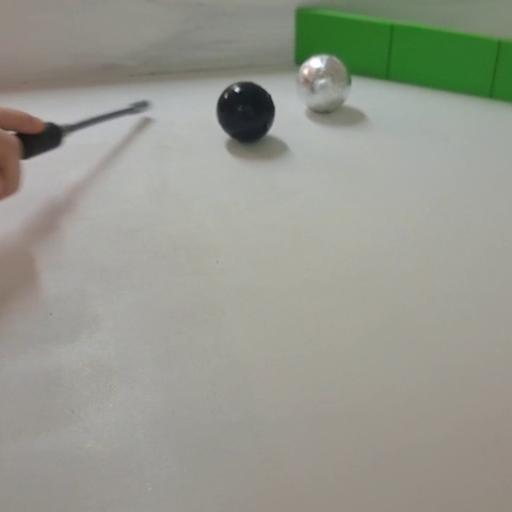alive: (296, 54, 351, 113)
dead: (216, 81, 275, 142)
